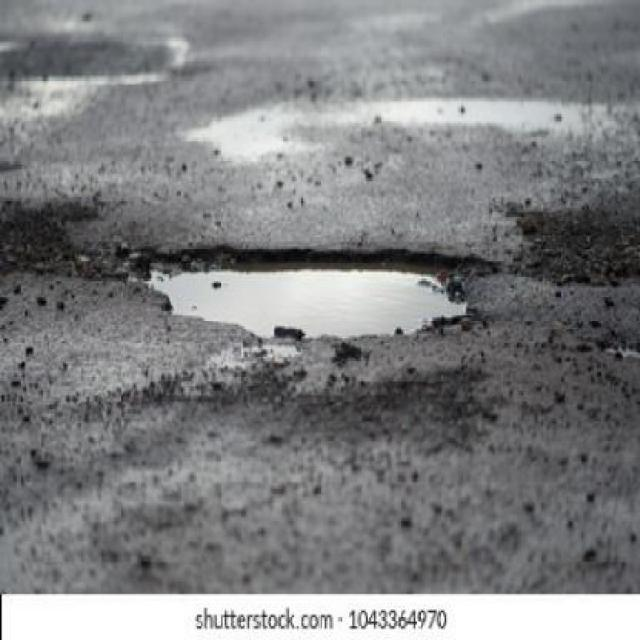Pothole: (123, 240, 497, 346)
